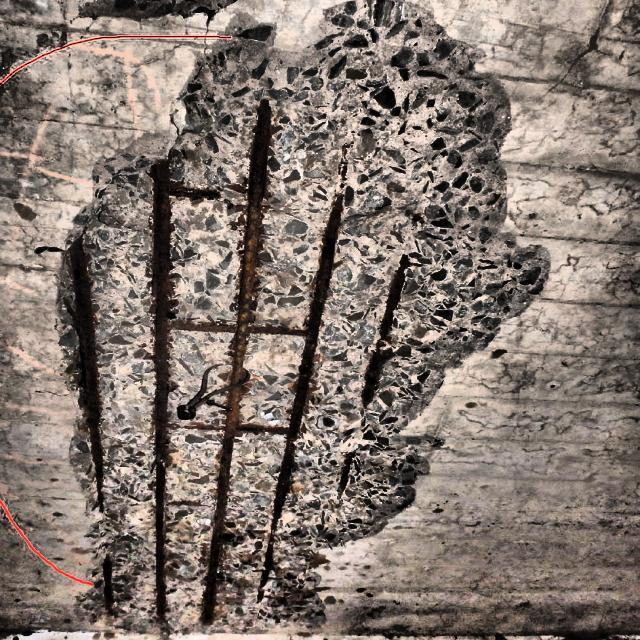D0w0: (202, 98, 271, 625), (258, 195, 345, 603), (71, 233, 104, 511), (153, 159, 170, 617), (361, 272, 405, 406), (170, 323, 305, 336), (171, 422, 288, 433), (171, 181, 219, 199), (103, 555, 113, 606), (340, 456, 351, 490)
